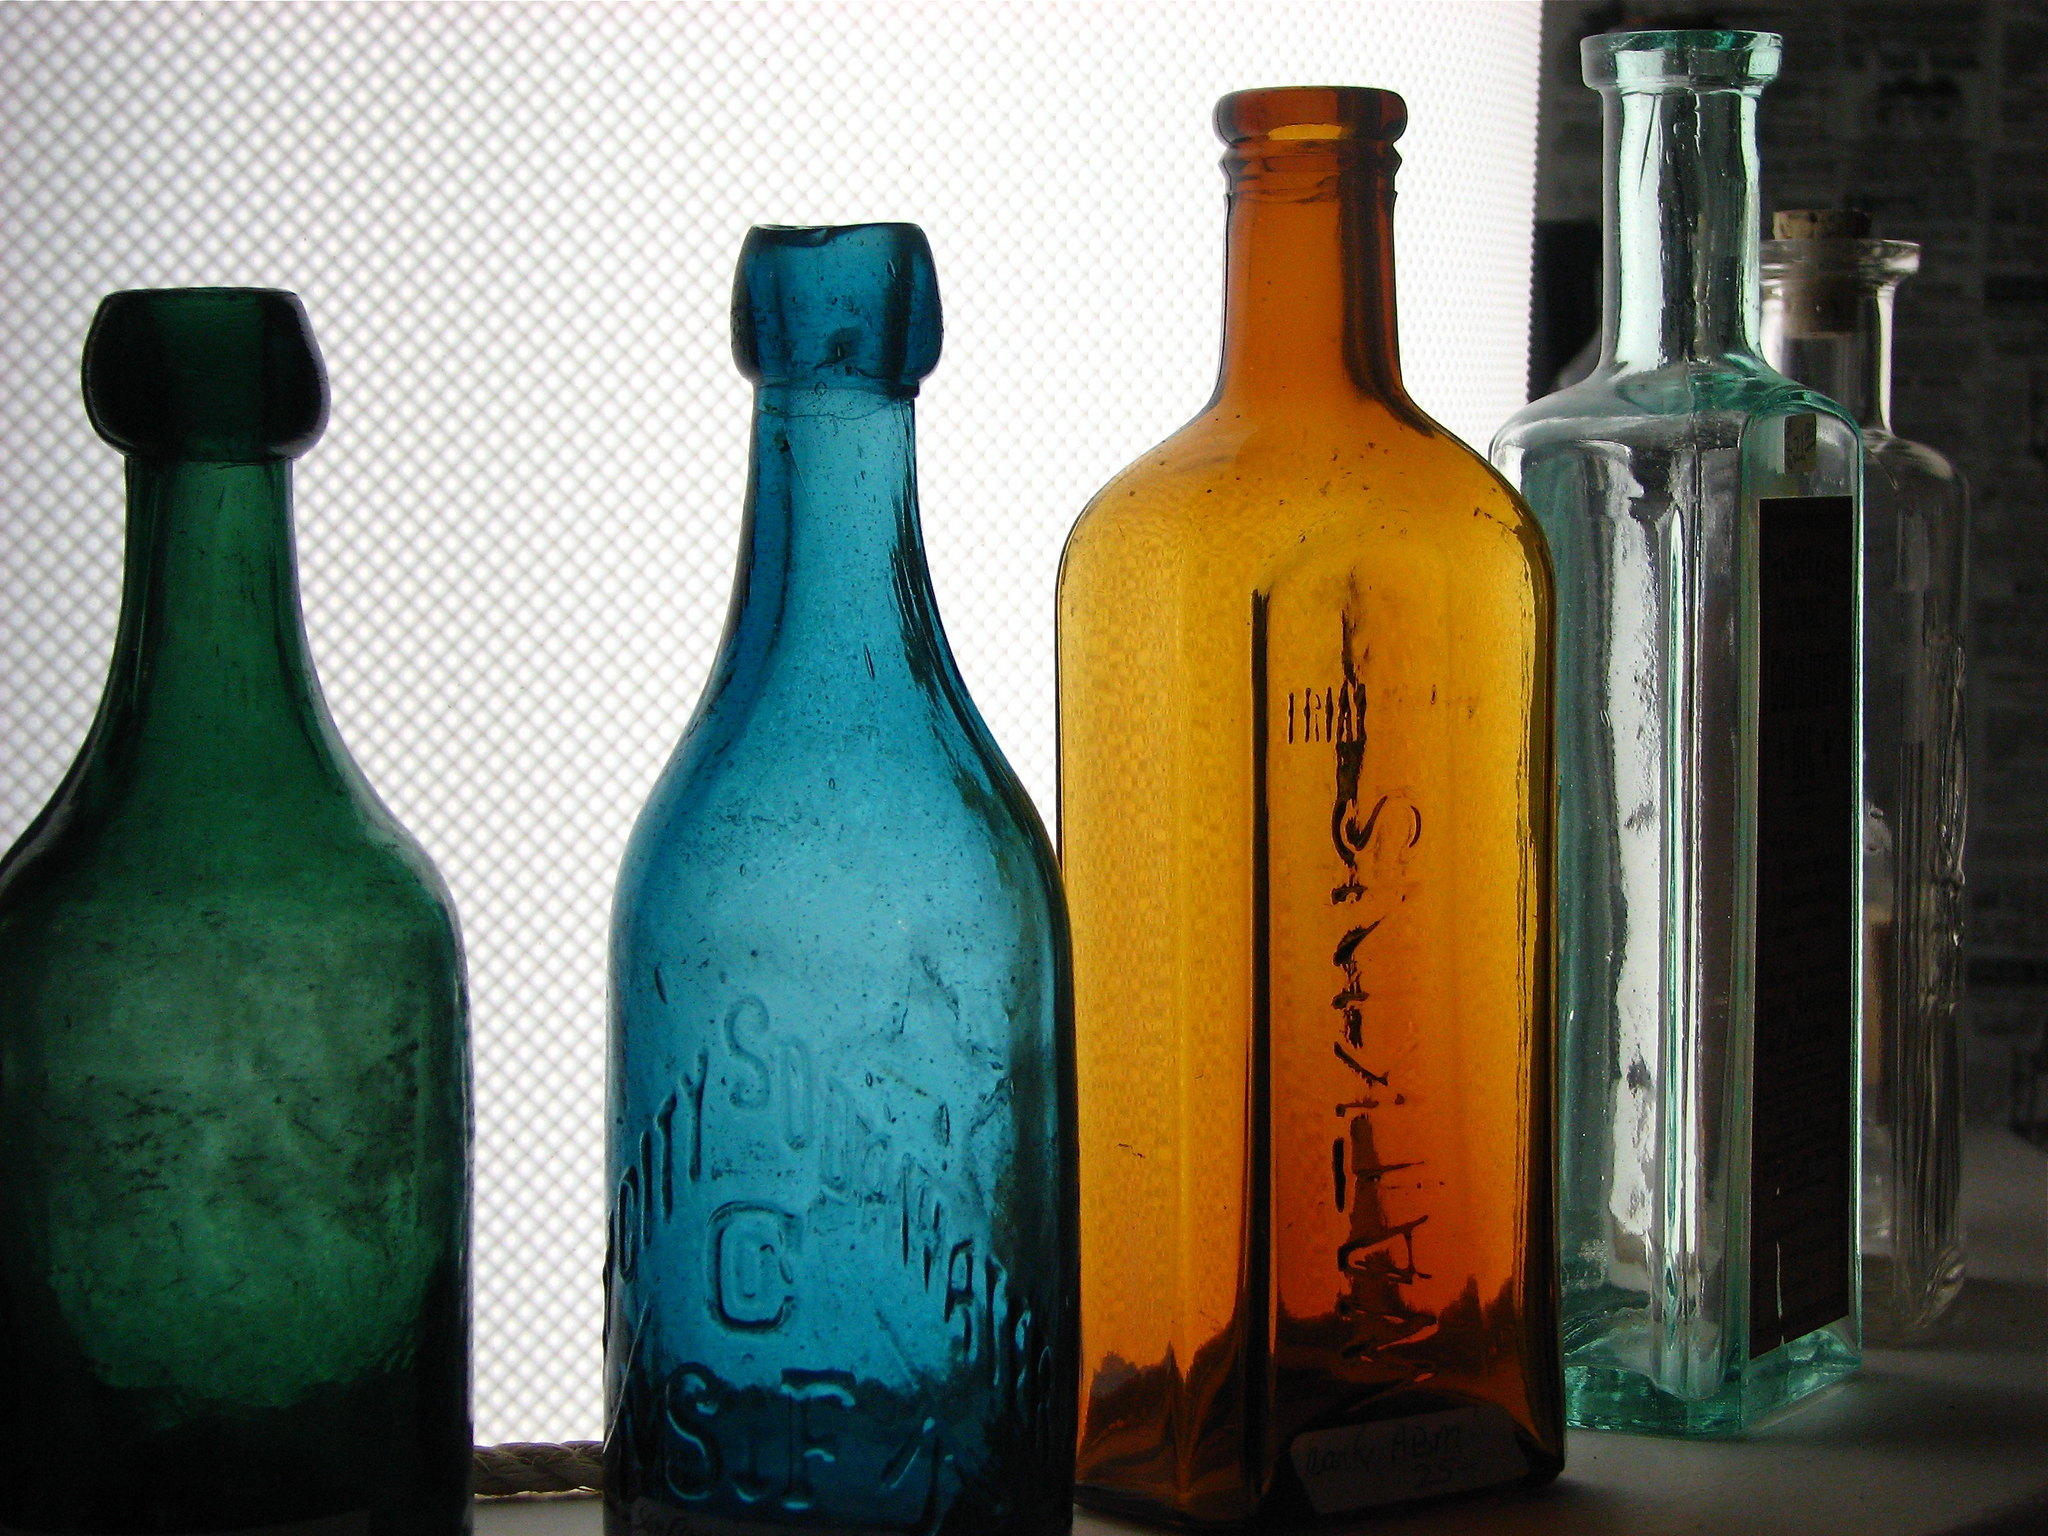bottle: (1072, 90, 1551, 1526), (610, 215, 1084, 1526), (2, 295, 468, 1536), (1546, 23, 1867, 1441)
